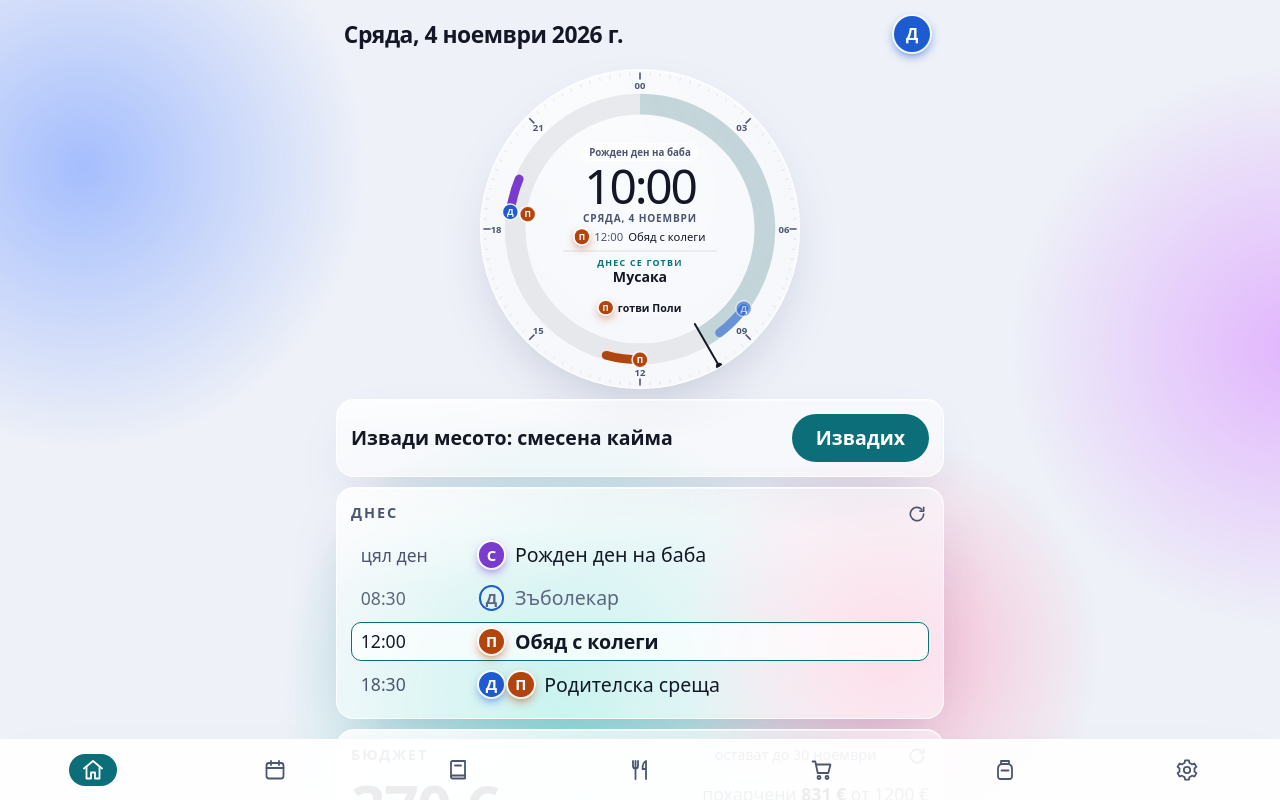
DashboardScreen › „Днес се готви“ › „Извади месото: …“ с „Извадих“ праща thawed и показва отметка „извадено“
expect the text "Извади месото: смесена кайма" is shown: met, box [351, 425, 673, 450]
Click the button "Извадих" at (860, 438), box [792, 414, 929, 462]
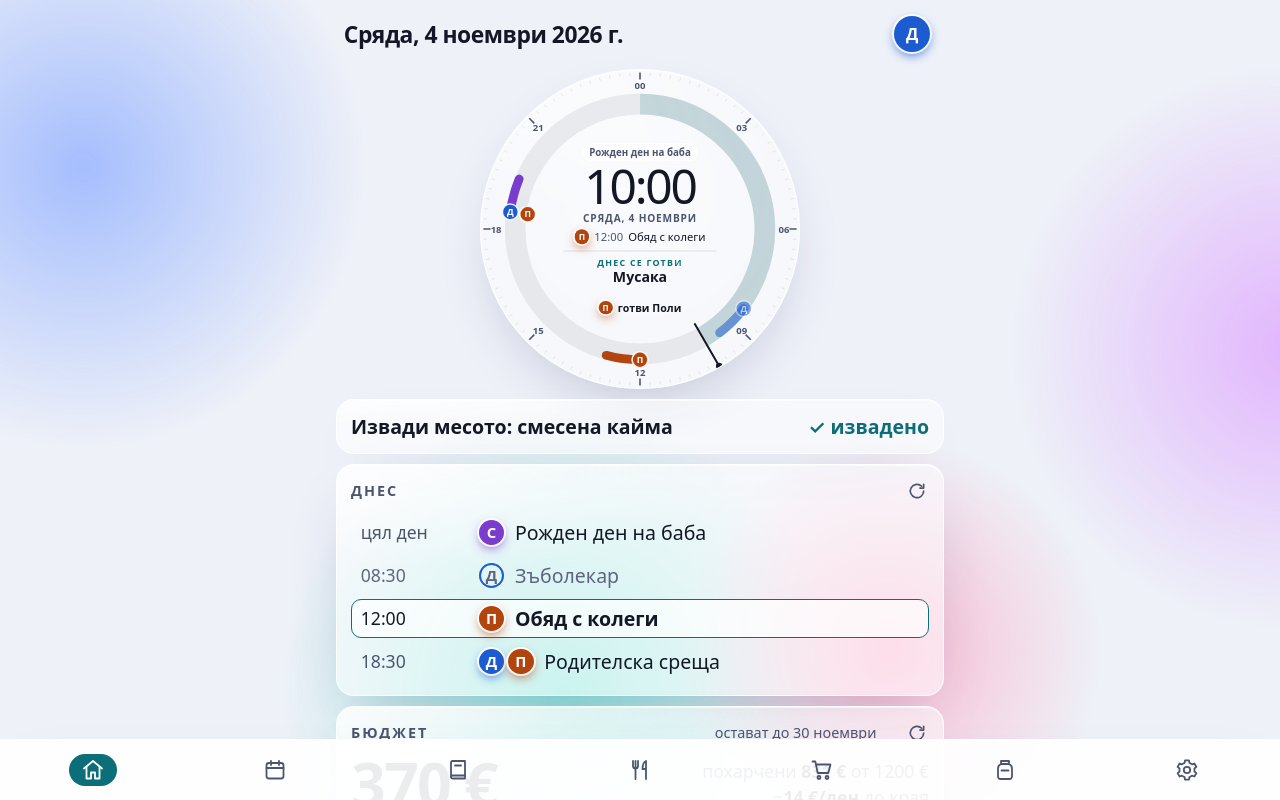
expect the text "извадено" is shown: met, box [826, 413, 929, 440]
expect the button "Извадих" is gone: met
